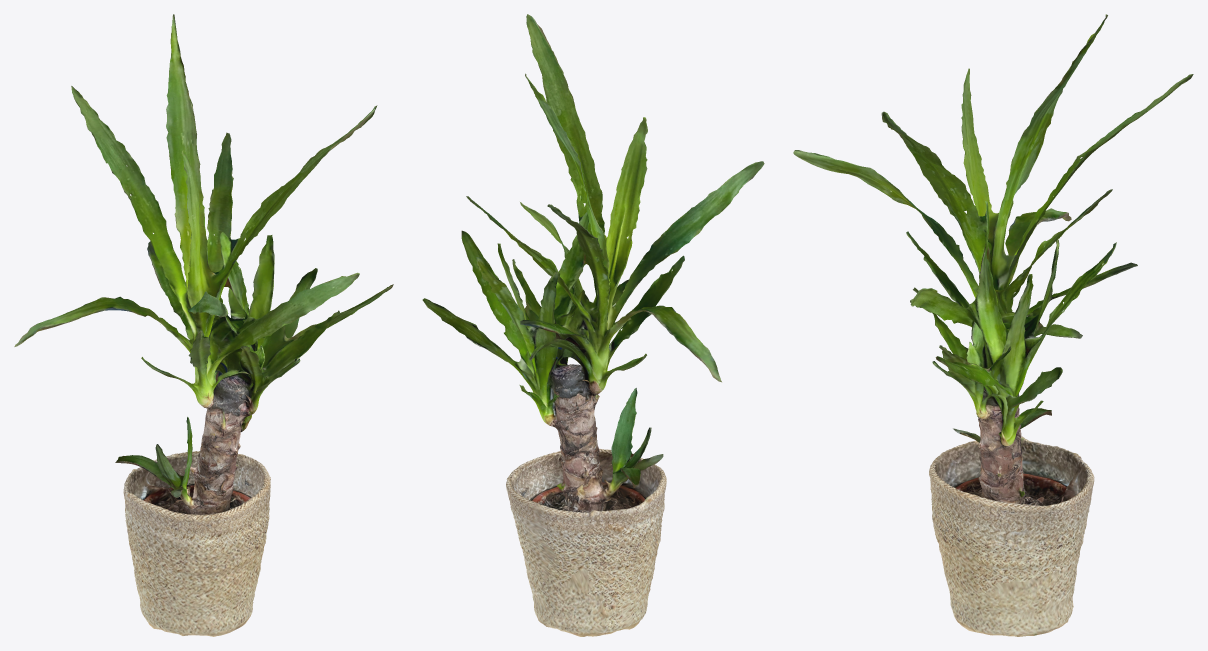
File: plant_-_yucca.glb
3 renders of one model, left to right at view 1: azimuth 30°, elevation 25°; view 2: azimuth 150°, elevation 25°; view 3: azimuth 270°, elevation 25°, orthographic. The views are drawn at different scales.
Visible parts, largest first — view 1: Object_4; view 2: Object_4; view 3: Object_4.
Part boxes in pixels (left/top/right/bottom): Object_4: left=14, top=14, right=393, bottom=636; Object_4: left=422, top=14, right=764, bottom=636; Object_4: left=793, top=14, right=1193, bottom=636.
Size of the model in its own units: 0.3443 by 0.5852 by 0.3451.
Materials: 1 (1 with a texture image).
